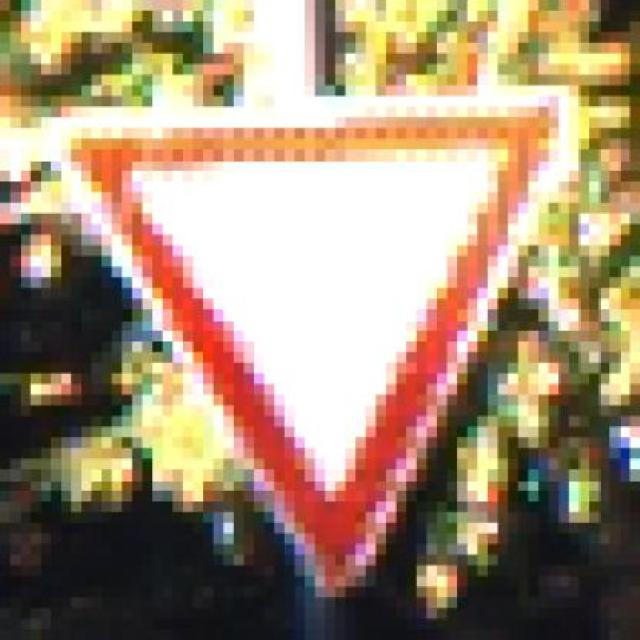Give Way: (32, 88, 602, 590)
